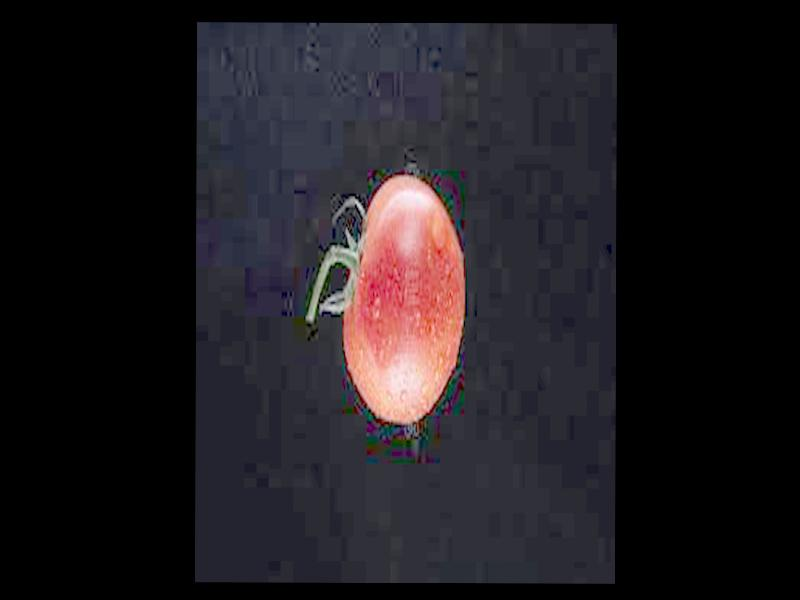Tomato: (342, 176, 465, 424)
